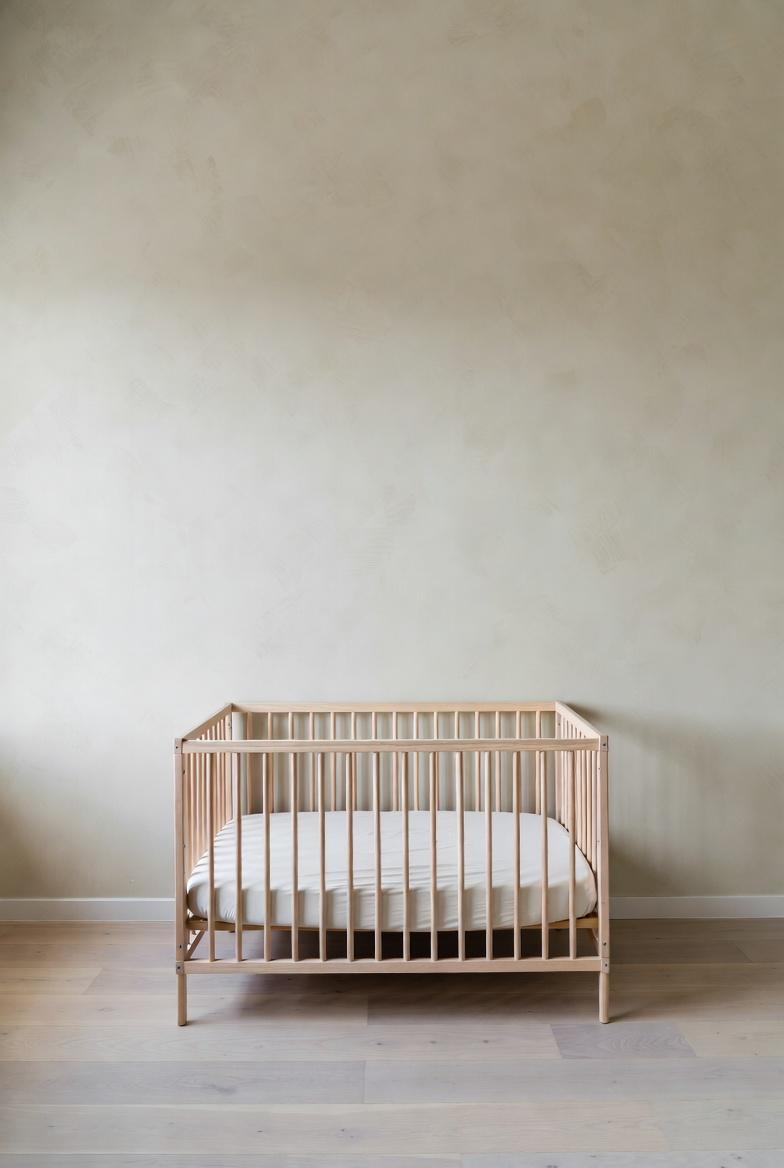crib: (175, 702, 609, 1025)
